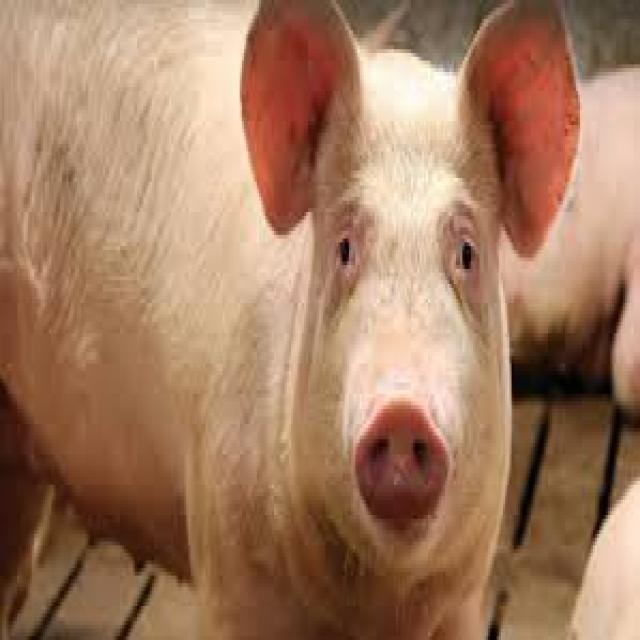Pig: (0, 2, 580, 640)
